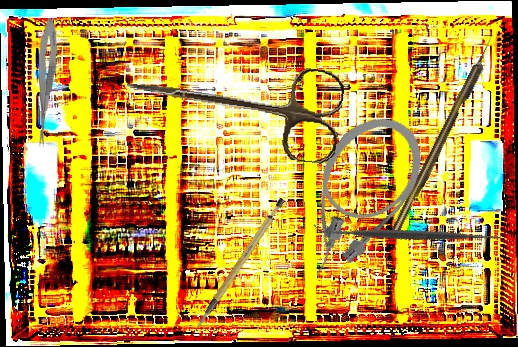Cannula: (269, 98, 442, 292)
Hook Surgical: (387, 32, 500, 240)
Iris Scissors: (119, 43, 347, 166)
Micro Scissor: (33, 17, 60, 148)
Scalpel Handle: (177, 196, 301, 329)
Spatula Surgical: (313, 138, 506, 331)
